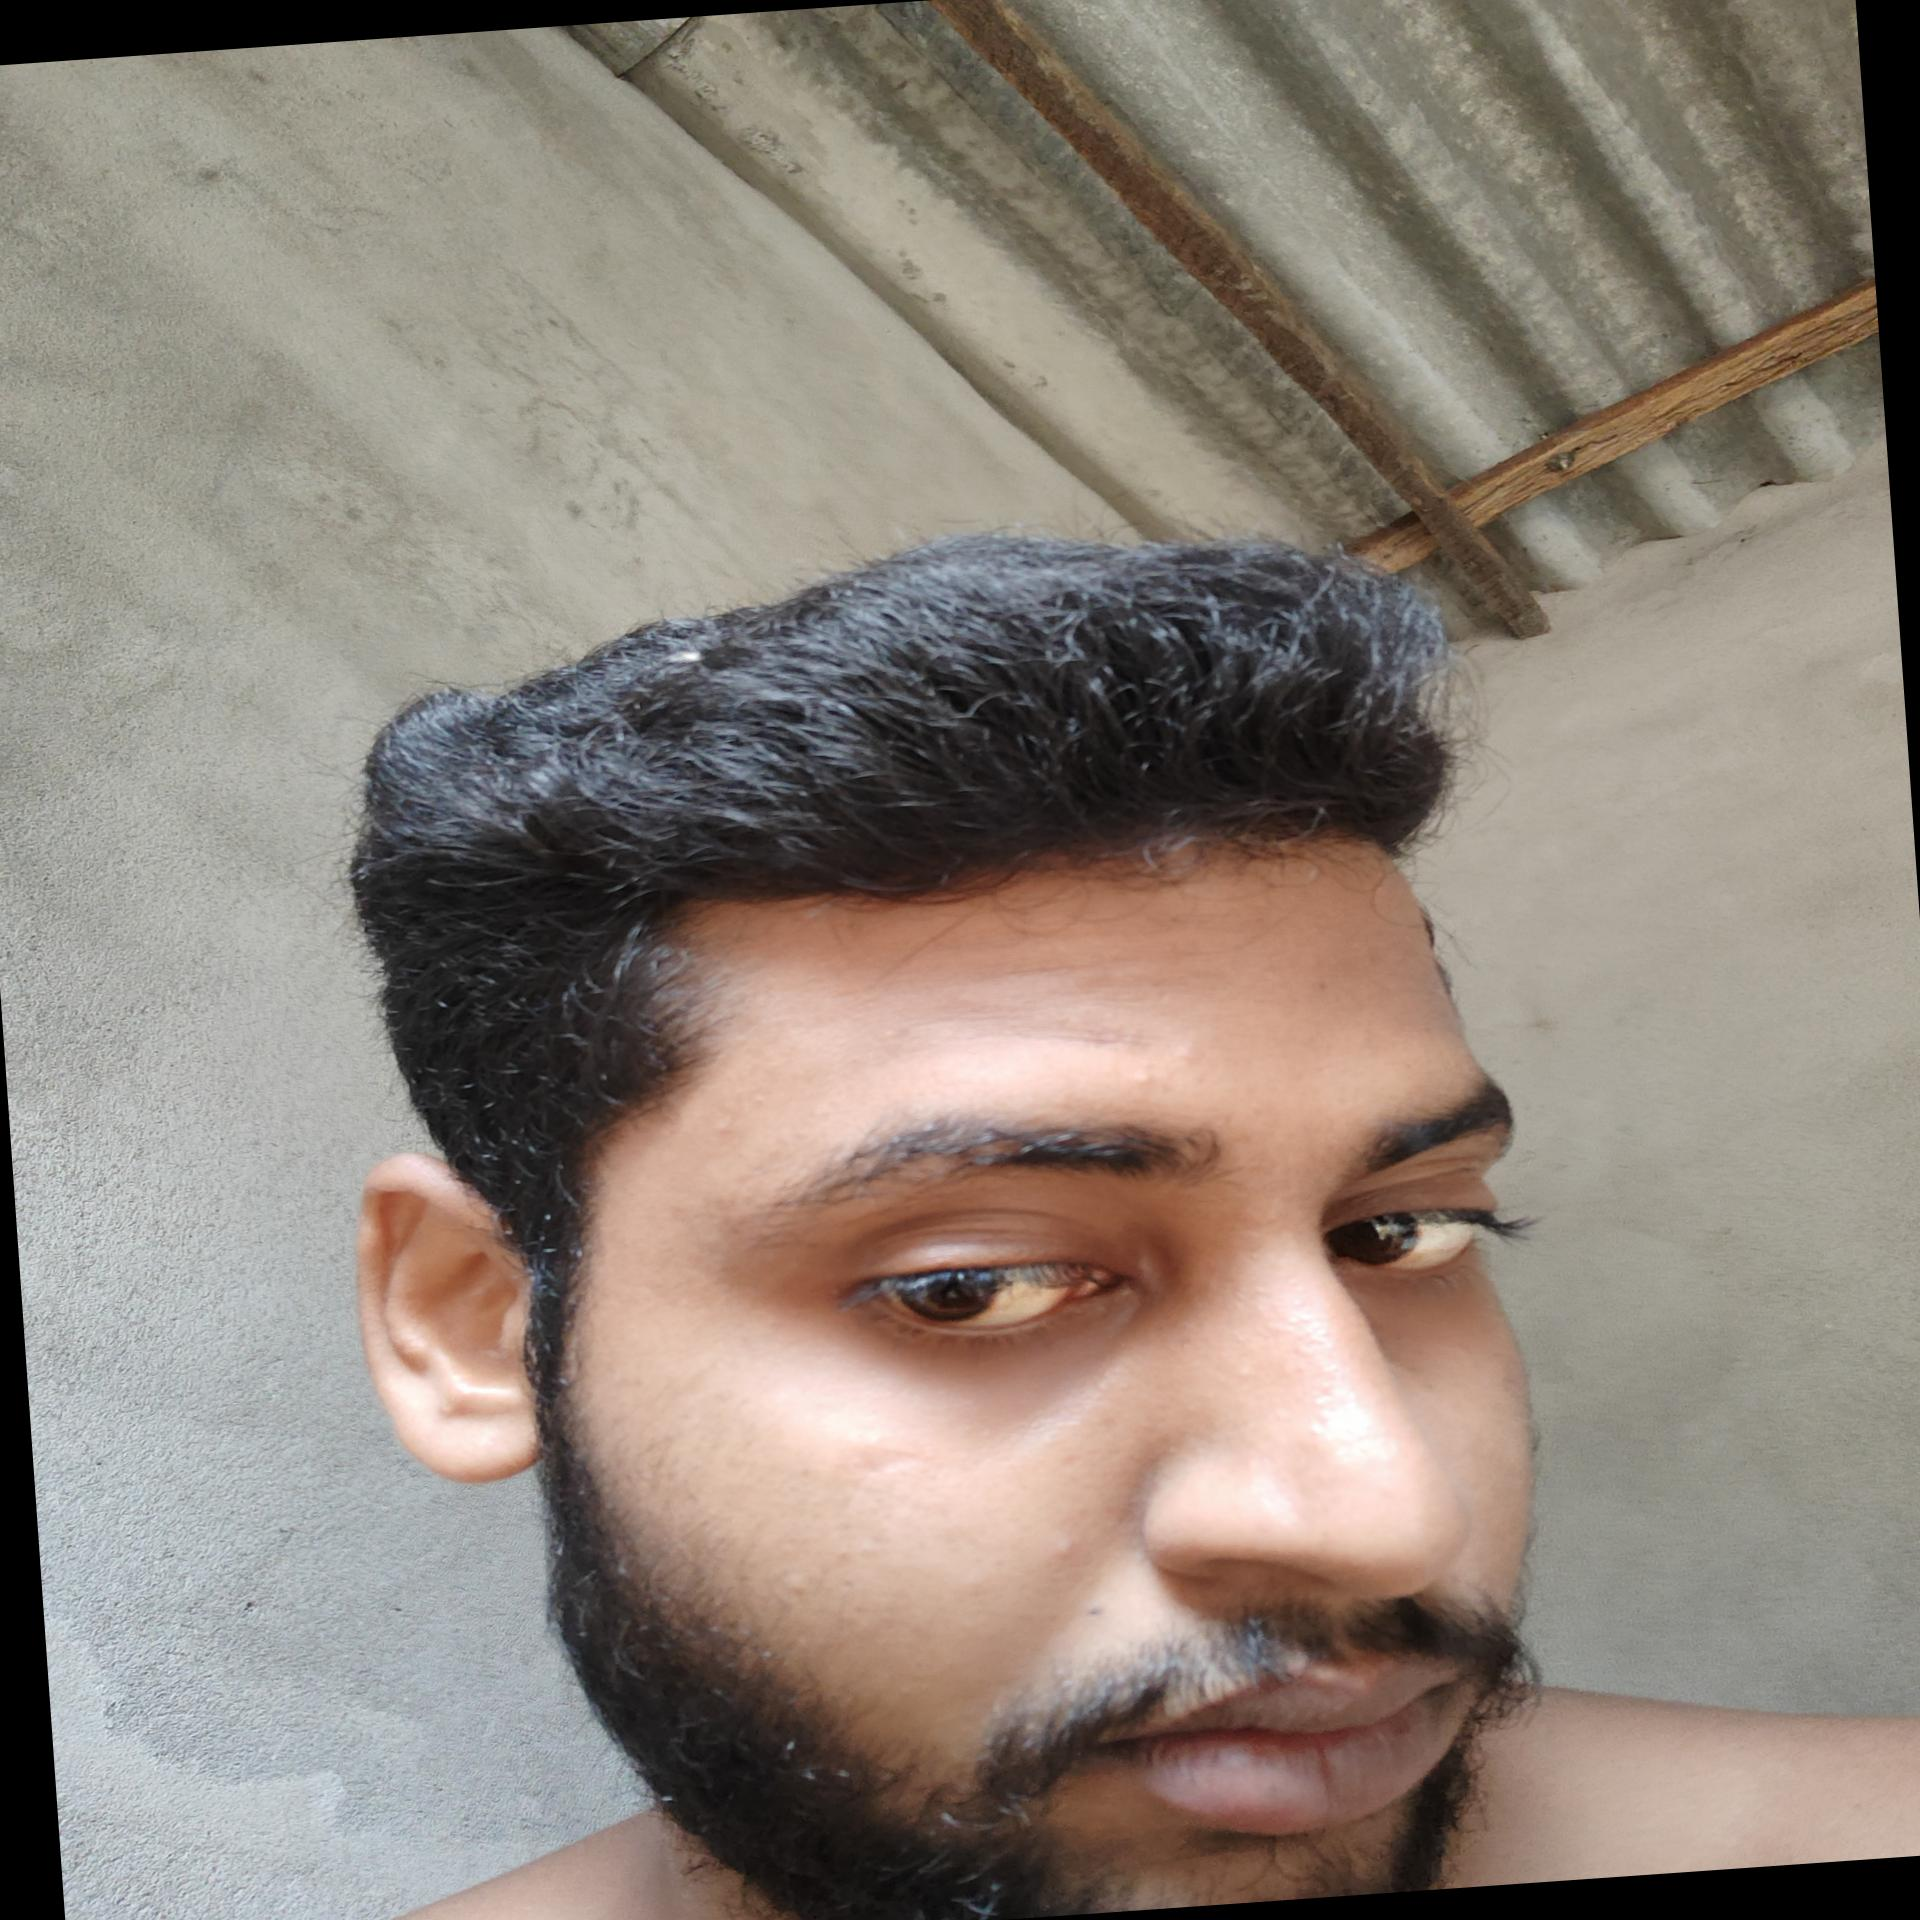Acne: (1039, 1530, 1083, 1570), (779, 1560, 816, 1598), (1166, 1036, 1206, 1067), (1120, 1064, 1159, 1088), (710, 1109, 733, 1143)
Wrinkles: (893, 1006, 1155, 1067), (944, 920, 1190, 958), (942, 946, 1171, 986)
